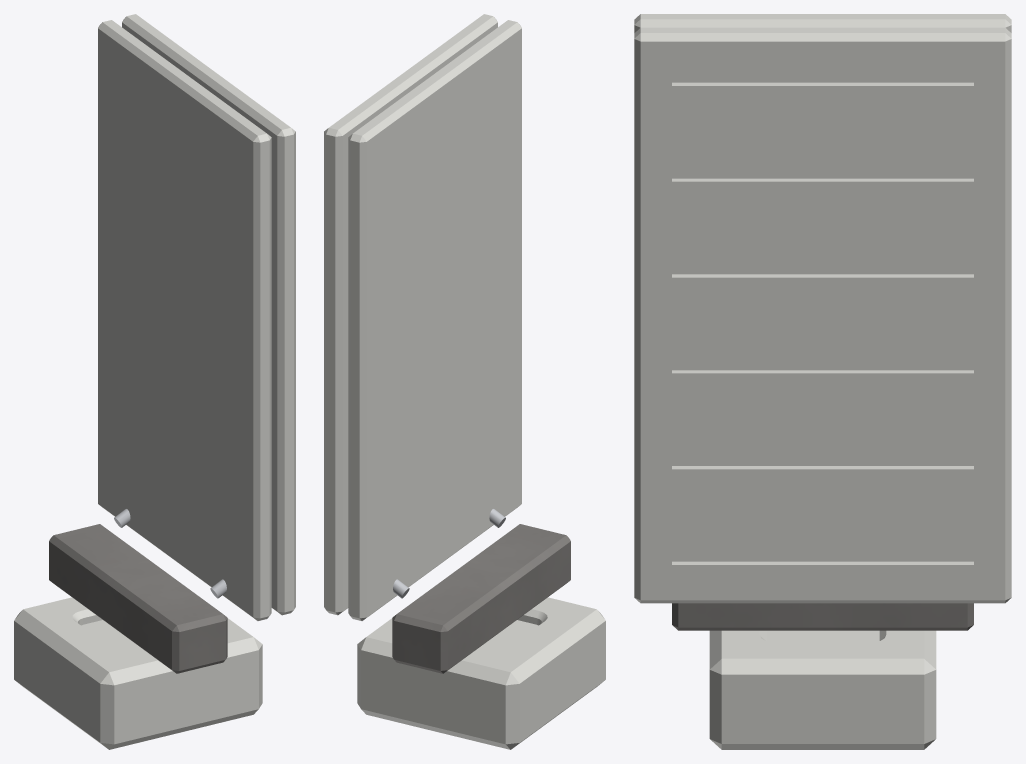
The model's file is ax_power_05_deployable_radiator_s.glb.
3 renders of one model, left to right at view 1: azimuth 30°, elevation 25°; view 2: azimuth 150°, elevation 25°; view 3: azimuth 270°, elevation 25°, orthographic. The views are drawn at different scales.
Visible parts, largest first — view 1: panel_1, mount_block, panel_2, hinge_base; view 2: panel_1, mount_block, panel_2, hinge_base; view 3: panel_2, mount_block, hinge_base, panel_1.
Part boxes in pixels (x1,y1,x2,y2): panel_1: [98, 20, 271, 620]; mount_block: [14, 597, 262, 749]; panel_2: [122, 14, 295, 615]; hinge_base: [49, 524, 227, 673]; panel_1: [348, 20, 521, 620]; mount_block: [357, 597, 605, 749]; panel_2: [324, 14, 497, 615]; hinge_base: [392, 524, 570, 673]; panel_2: [634, 27, 1011, 603]; mount_block: [709, 630, 936, 749]; hinge_base: [672, 603, 973, 630]; panel_1: [634, 14, 1011, 32].
Size of the model in its own units: 0.35 by 1.26 by 0.6.
Materials: 3 (2 with a texture image).
